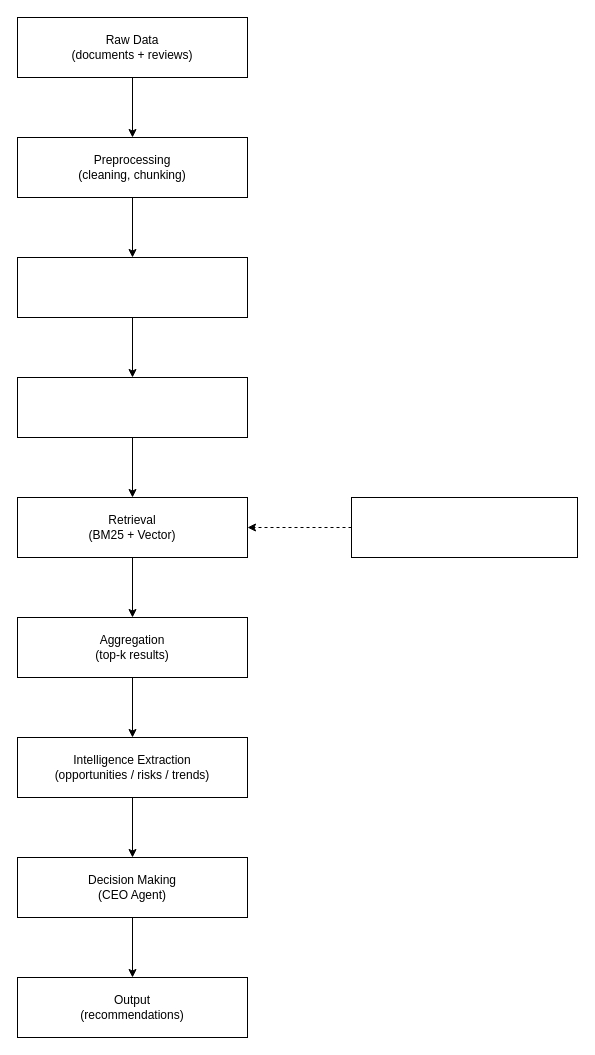
Image size: 595x1055. Some labels were removed from this diagram. Here are the shapes that lost their labels. From the top down, the centre of each, then its label:
At (x=132, y=287): "Embedding (SentenceTransformer)".
At (x=132, y=407): "Storage (PostgreSQL + Chroma)".
At (x=464, y=527): "Plan (LLM)".
